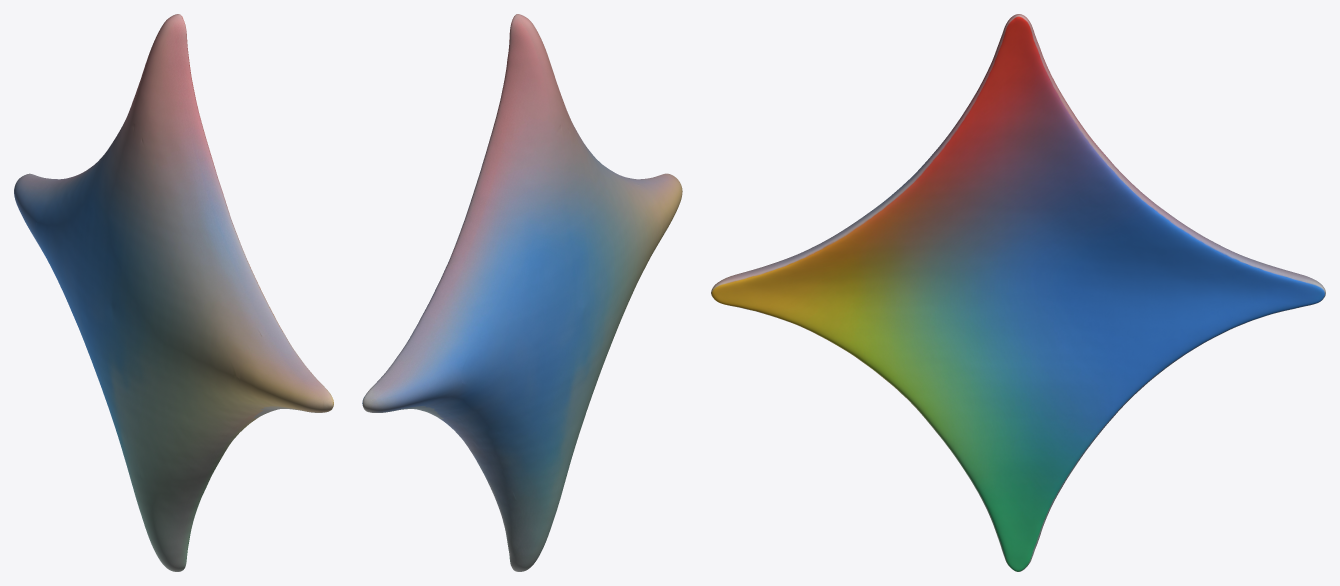
The model's file is gemini-ai.glb.
3 views of the same model, side by side, from view 1: azimuth 30°, elevation 25°; view 2: azimuth 150°, elevation 25°; view 3: azimuth 270°, elevation 25° (orthographic).
Visible parts, largest first — view 1: tripo_node_d5a8c342-01be-44e5-940d-cc426607e033; view 2: tripo_node_d5a8c342-01be-44e5-940d-cc426607e033; view 3: tripo_node_d5a8c342-01be-44e5-940d-cc426607e033.
Boxes of the visible parts, x1,y1,x2,y2 form: tripo_node_d5a8c342-01be-44e5-940d-cc426607e033: [14, 14, 333, 571]; tripo_node_d5a8c342-01be-44e5-940d-cc426607e033: [362, 14, 682, 571]; tripo_node_d5a8c342-01be-44e5-940d-cc426607e033: [711, 14, 1325, 571].
Size of the model in its own units: 0.1301 by 0.9984 by 1.
1 material, 1 textured.
